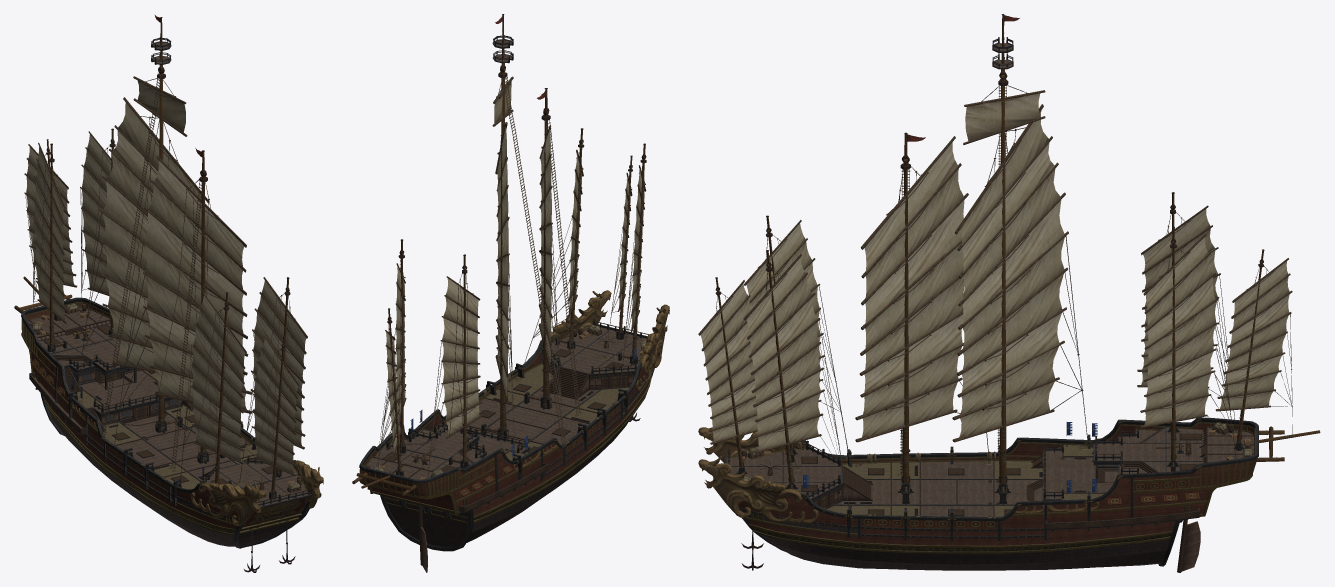
The picture shows the model from 3 angles, left to right: view 1: azimuth 30°, elevation 25°; view 2: azimuth 150°, elevation 25°; view 3: azimuth 270°, elevation 25°; orthographic projection. The views are drawn at different scales.
Parts seen in each view (by area): view 1: SAIL_GROUP_01, 3d66-Editable_Poly-20499143-001, 3d66-Editable_Poly-20499143-007, 3d66-Editable_Poly-20499143-008, 3d66-Editable_Poly-20499143-006, 3d66-Editable_Poly-20499143-003, 3d66-Editable_Poly-20499143-005; view 2: 3d66-Editable_Poly-20499143-007, 3d66-Editable_Poly-20499143-001, 3d66-Editable_Poly-20499143-008, SAIL_GROUP_01, 3d66-Editable_Poly-20499143-006, 3d66-Editable_Poly-20499143-003, 3d66-Editable_Poly-20499143-005; view 3: SAIL_GROUP_01, 3d66-Editable_Poly-20499143-008, 3d66-Editable_Poly-20499143-001, 3d66-Editable_Poly-20499143-007, 3d66-Editable_Poly-20499143-006, 3d66-Editable_Poly-20499143-003, 3d66-Editable_Poly-20499143-005.
Boxes of the visible parts, <box> form: SAIL_GROUP_01: <box>26,80,306,462</box>; 3d66-Editable_Poly-20499143-001: <box>24,15,307,493</box>; 3d66-Editable_Poly-20499143-007: <box>21,297,311,548</box>; 3d66-Editable_Poly-20499143-008: <box>21,302,311,551</box>; 3d66-Editable_Poly-20499143-006: <box>29,303,323,526</box>; 3d66-Editable_Poly-20499143-003: <box>47,38,281,499</box>; 3d66-Editable_Poly-20499143-005: <box>14,276,301,572</box>; 3d66-Editable_Poly-20499143-007: <box>359,318,654,551</box>; 3d66-Editable_Poly-20499143-001: <box>374,14,646,480</box>; 3d66-Editable_Poly-20499143-008: <box>359,321,653,565</box>; SAIL_GROUP_01: <box>386,81,644,441</box>; 3d66-Editable_Poly-20499143-006: <box>366,290,669,572</box>; 3d66-Editable_Poly-20499143-003: <box>386,35,637,476</box>; 3d66-Editable_Poly-20499143-005: <box>352,324,642,496</box>; SAIL_GROUP_01: <box>700,93,1289,450</box>; 3d66-Editable_Poly-20499143-008: <box>727,422,1257,572</box>; 3d66-Editable_Poly-20499143-001: <box>698,14,1292,506</box>; 3d66-Editable_Poly-20499143-007: <box>725,417,1258,566</box>; 3d66-Editable_Poly-20499143-006: <box>698,417,1251,571</box>; 3d66-Editable_Poly-20499143-003: <box>736,37,1243,504</box>; 3d66-Editable_Poly-20499143-005: <box>741,421,1320,570</box>.
Bounding box in the file's own units: 2505 × 9227 × 9335.
Materials: 4 (4 with a texture image).
